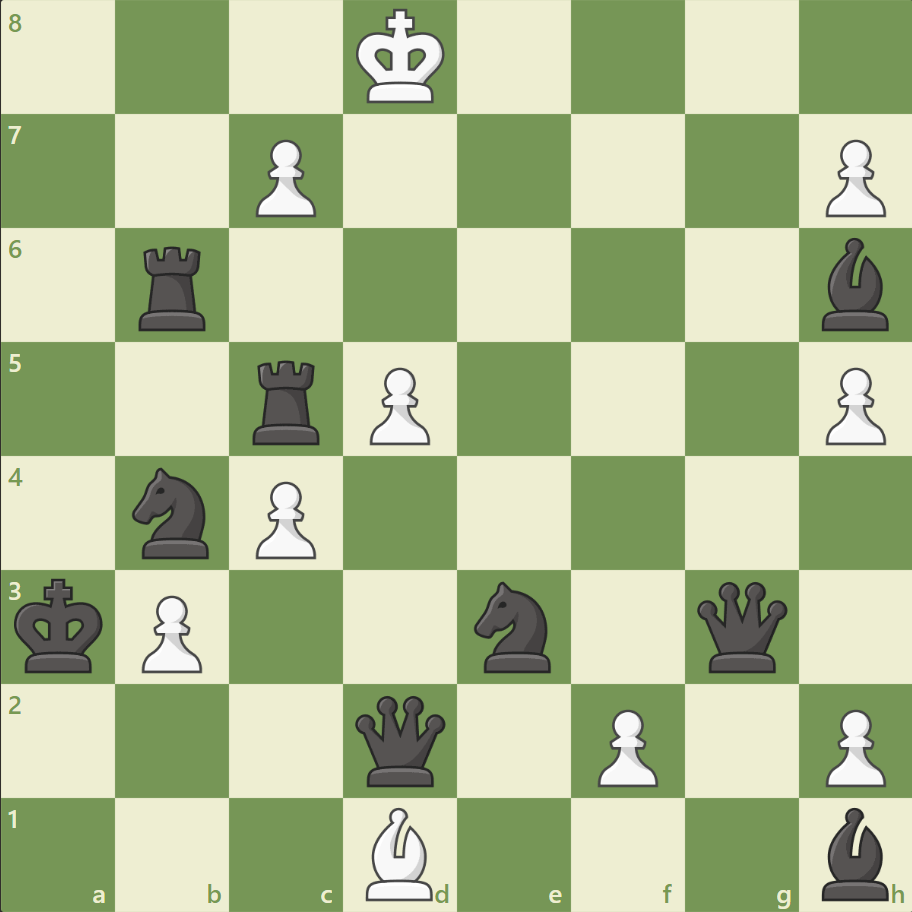B: (358, 801, 442, 904)
K: (351, 4, 451, 112)
P: (247, 132, 322, 223), (247, 473, 322, 564), (133, 586, 208, 677), (815, 132, 889, 223), (361, 359, 435, 450), (815, 359, 889, 450), (588, 700, 662, 791), (815, 700, 889, 791)
b: (812, 233, 896, 336), (812, 801, 896, 904)
k: (11, 571, 111, 679)
n: (124, 461, 222, 564), (465, 575, 562, 677)
q: (691, 576, 790, 676), (351, 690, 450, 789)
r: (246, 352, 329, 449), (133, 239, 215, 336)
